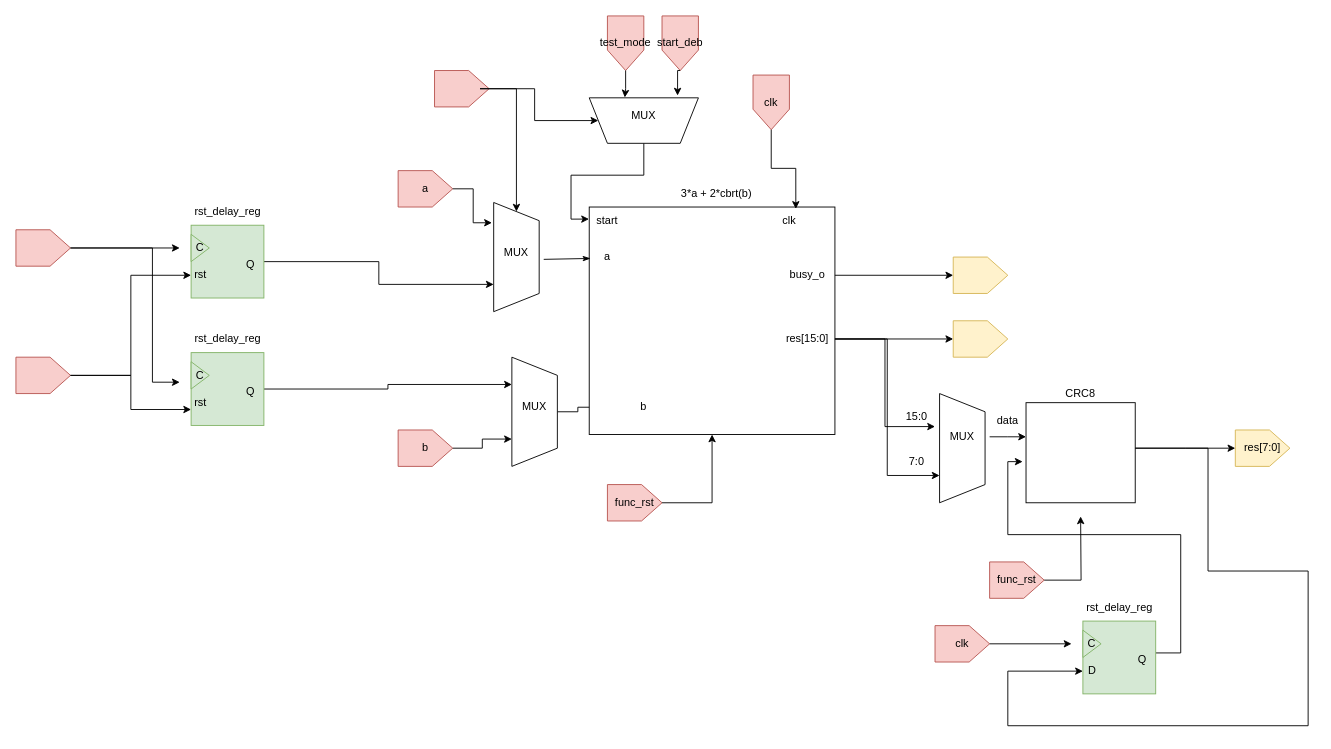
The diagram is 1331 pixels wide and 749 high, and some of its shapes have lost their labels. Here are the shapes that lost their labels. From the top down, the centre of each, then its label:
[461,88]: test_enabled
[43,247]: get_enable
[980,274]: func_busy
[980,338]: function_res
[43,375]: tester
[1080,452]: res
